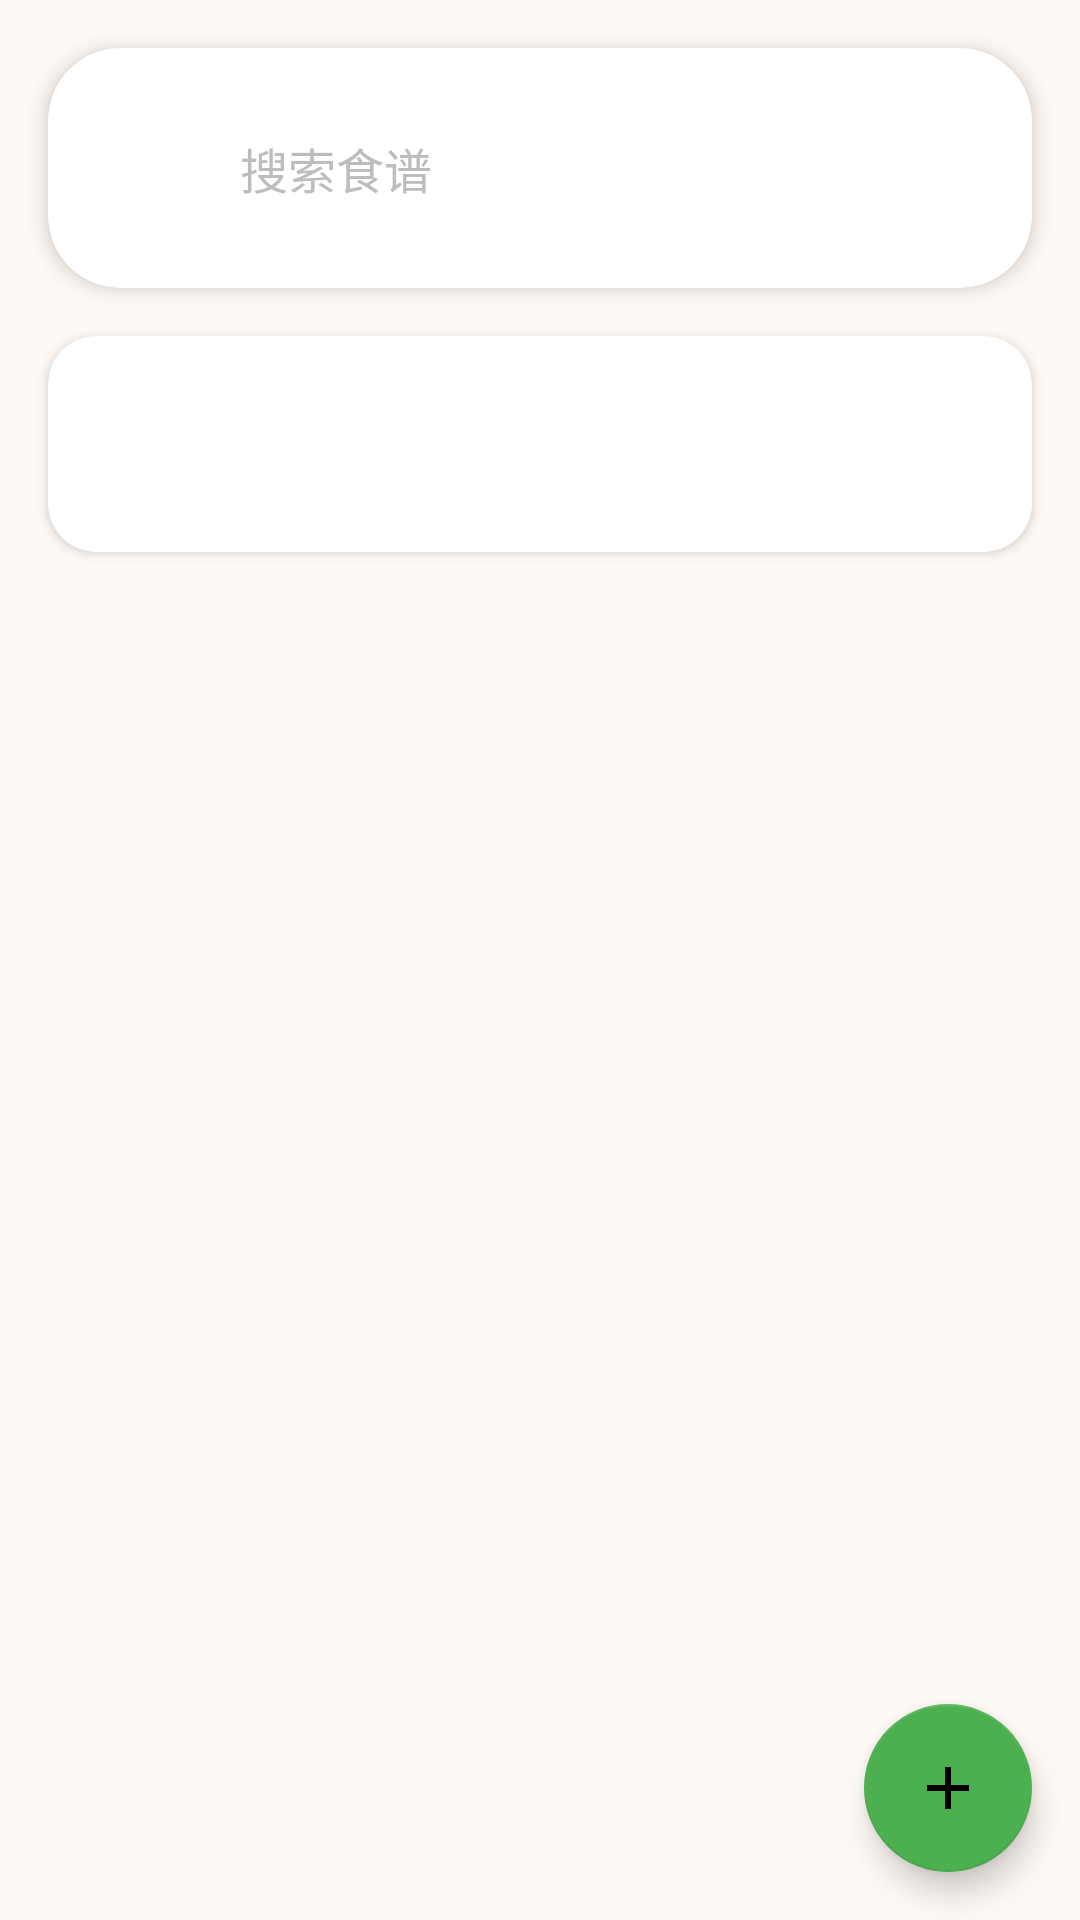

Screen size 1080*1920. Icon name, then its box in pixels as {"left": x1, "top": y1, "right": x2, "bottom": y2}:
添加食谱: {"left": 864, "top": 1704, "right": 1032, "bottom": 1872}
